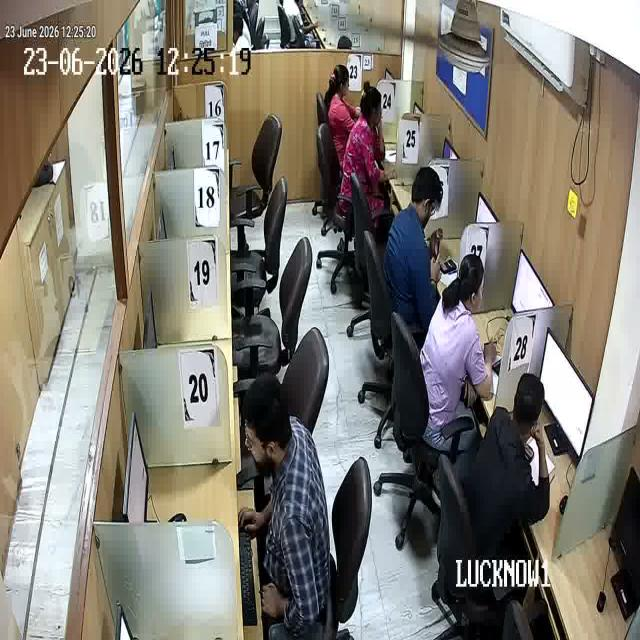phone: (432, 230, 449, 260)
